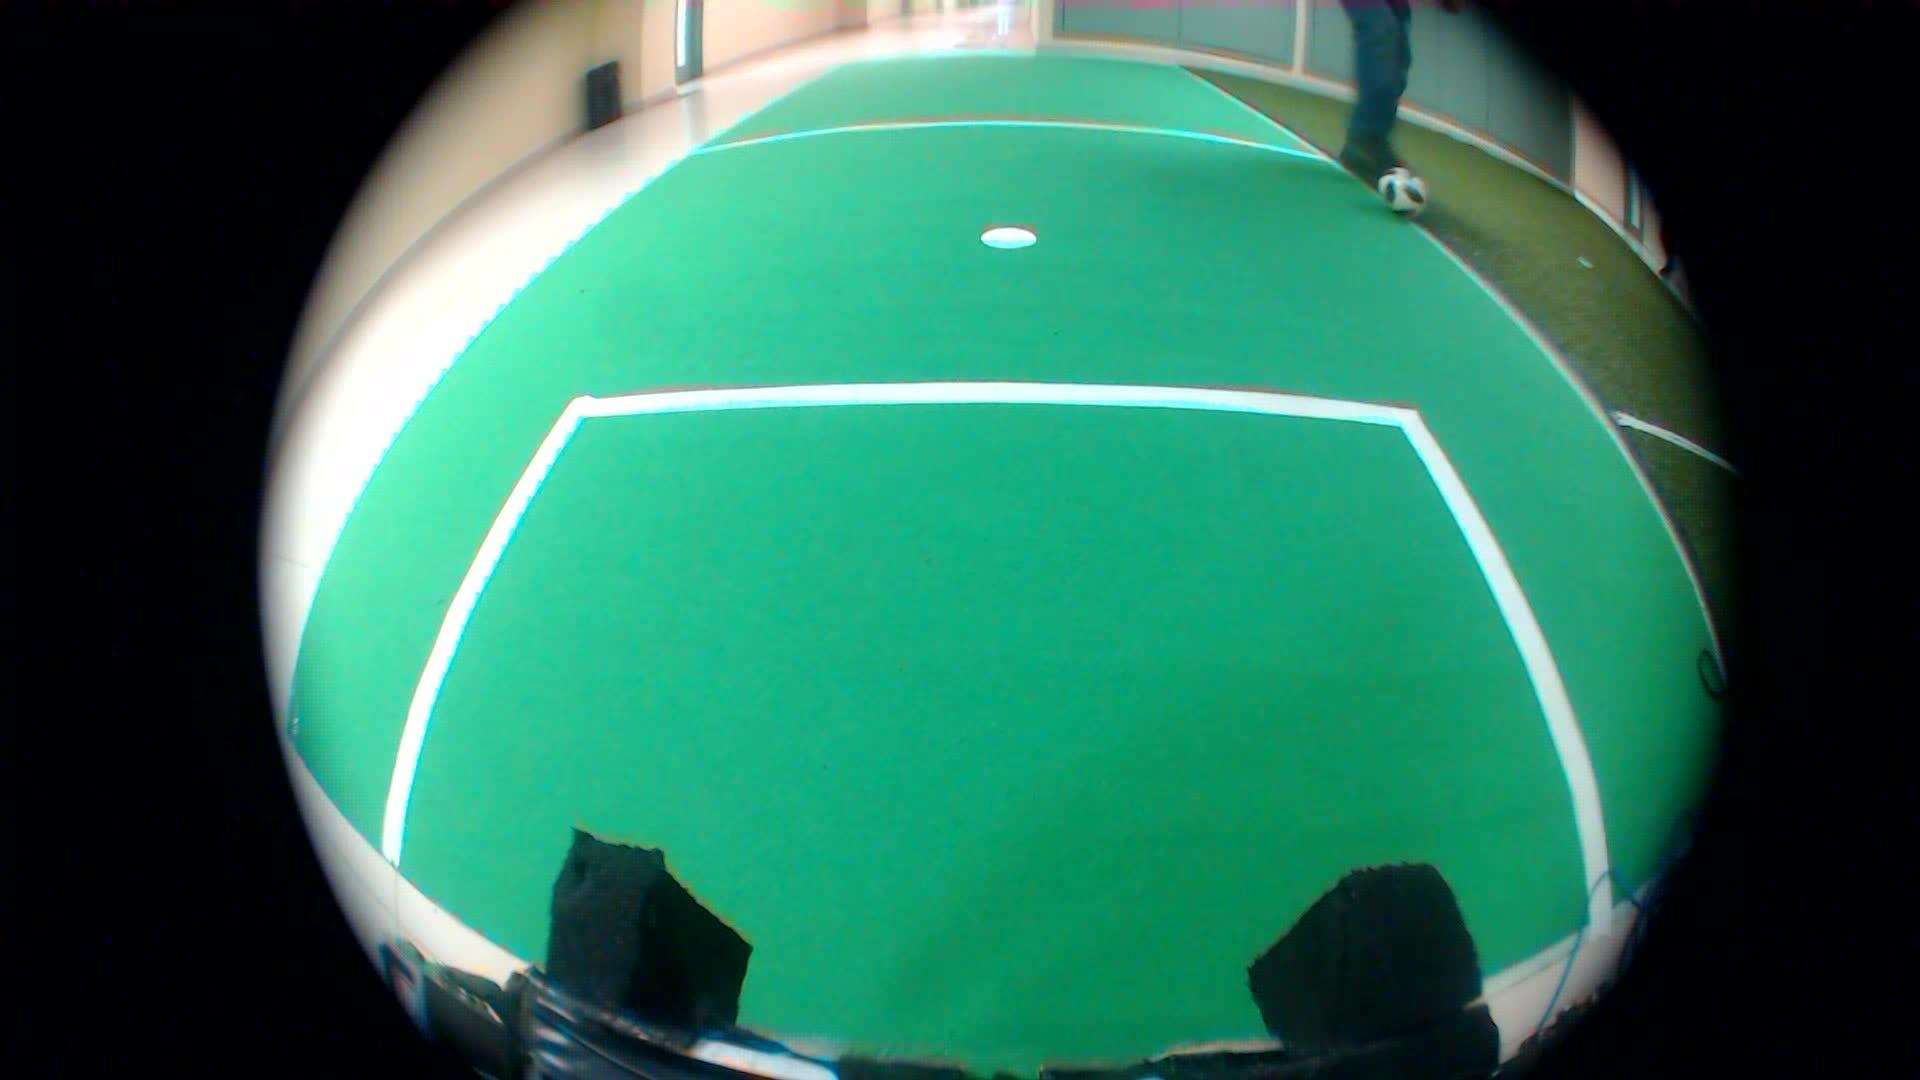ball: (1373, 156, 1435, 227)
